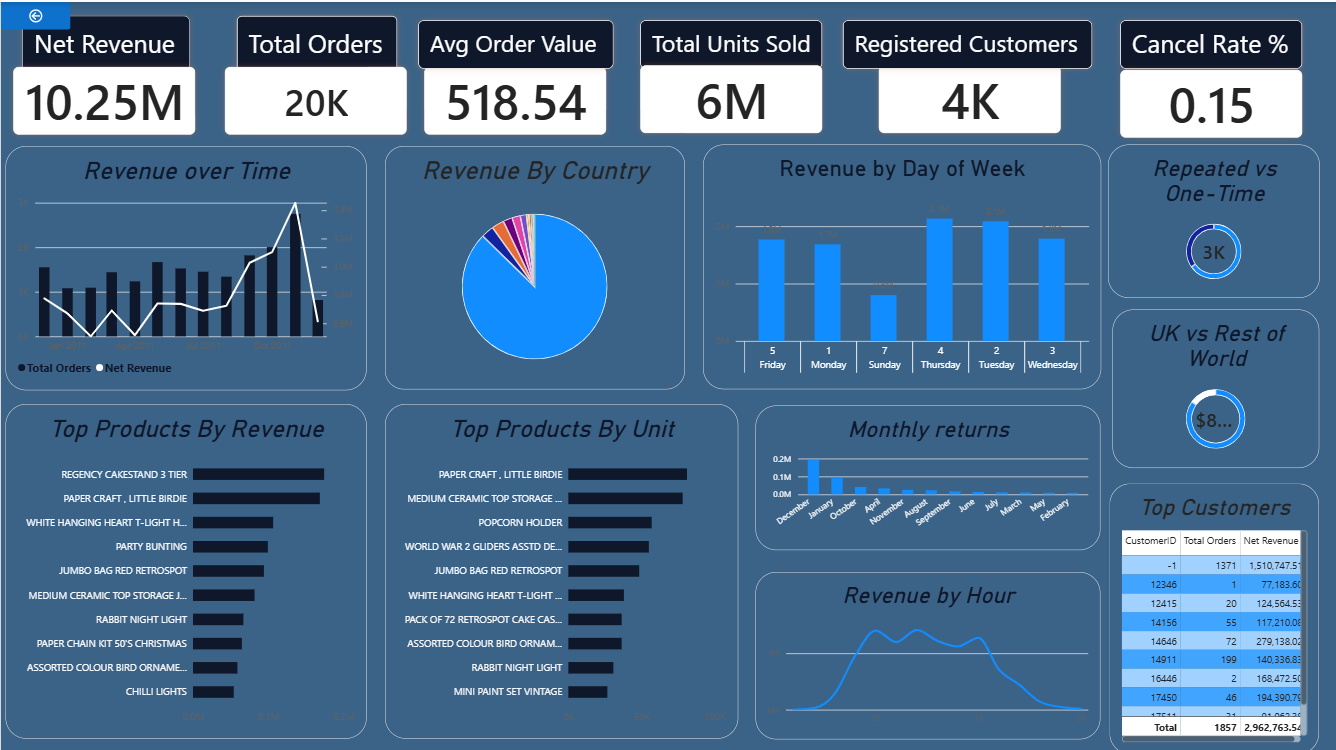

The page's visual inventory and layout, read from the dashboard file:
{"tool":"powerbi","page":{"name":"Page 1","canvas":[1920,1080],"ordinal":0},"visuals":[{"type":"cardVisual","fields":{"Data":["Fact_Sales.Net Revenue"]},"box":[19,9.5,263.3,102],"z":0},{"type":"cardVisual","fields":{"Data":["Fact_Sales.Total Orders"]},"box":[327.4,9.5,253.8,102],"z":1},{"type":"cardVisual","fields":{"Data":["Fact_Sales.Total Units Sold"]},"box":[908.6,14.2,284.7,92.8],"z":3},{"type":"cardVisual","fields":{"Data":["Fact_Sales.Cancel Rate %"]},"box":[1599,14.2,284.7,92.8],"z":5},{"type":"cardVisual","fields":{"Data":["Fact_Sales.Net Revenue"]},"box":[7.2,82.3,284.7,120.8],"z":6},{"type":"cardVisual","fields":{"Data":["Fact_Sales.Total Orders"]},"box":[310.8,83,284.7,121],"z":7},{"type":"cardVisual","fields":{"Data":["Fact_Sales.Avg Order Value"]},"box":[597.8,83,284.7,120.8],"z":8},{"type":"cardVisual","fields":{"Data":["Fact_Sales.Total Units Sold"]},"box":[908.6,80.7,284.7,120.8],"z":9},{"type":"cardVisual","fields":{"Data":["Fact_Sales.Registered Customers"]},"box":[1250.2,80.7,284.7,120.8],"z":10},{"type":"cardVisual","fields":{"Data":["Fact_Sales.Cancel Rate %"]},"box":[1599,85.4,284.7,120.8],"z":11},{"type":"lineClusteredColumnComboChart","title":"Revenue over Time","fields":{"Category":["Dim_Date.YearMonth"],"Y":["Fact_Sales.Total Orders"],"Y2":["Fact_Sales.Net Revenue"]},"box":[7.1,206.4,519.5,351.1],"z":12},{"type":"cardVisual","fields":{"Data":["Fact_Sales.Avg Order Value"]},"box":[588.3,14.2,303.7,92.5],"z":13},{"type":"cardVisual","fields":{"Data":["Fact_Sales.Registered Customers"]},"box":[1200.4,14.2,381.9,92.5],"z":14},{"type":"clusteredBarChart","title":"Top Products By Revenue","fields":{"Category":["Dim_Product.Description"],"Y":["Fact_Sales.Net Revenue"]},"box":[7.1,578.9,519.5,481.6],"z":15},{"type":"clusteredBarChart","title":"Top Products By Unit","fields":{"Category":["Dim_Product.Description"],"Y":["Fact_Sales.Total Units Sold"]},"box":[552.8,578.9,507.7,481.6],"z":16},{"type":"pieChart","title":"Revenue By Country","fields":{"Category":["Dim_Country.Country"],"Y":["Fact_Sales.Net Revenue"]},"box":[552.8,206.4,431.1,350.3],"z":17},{"type":"donutChart","title":"UK vs Rest of World","fields":{"Y":["Fact_Sales.UK Revenue","Fact_Sales.Rest of World Revenue"]},"box":[1598.6,441.2,297.4,228],"z":18},{"type":"tableEx","title":"Top Customers","fields":{"Values":["Dim_Customer.CustomerID","Fact_Sales.Total Orders","Fact_Sales.Net Revenue"]},"box":[1593.7,691.5,301.3,389.1],"z":19},{"type":"donutChart","title":"Repeated vs One-Time","fields":{"Y":["Fact_Sales.Repeat Customers","Fact_Sales.One-Time Customers"]},"box":[1591.2,205.7,304.9,220.6],"z":20},{"type":"clusteredColumnChart","title":"Revenue by Day of Week","fields":{"Category":["Dim_Date.DayOfWeek","Dim_Date.DayOfWeekNum"],"Y":["Fact_Sales.Net Revenue"]},"box":[1008.8,205.7,572.5,351.9],"z":21},{"type":"lineChart","title":"Revenue by Hour","fields":{"Category":["Fact_Sales.Hour"],"Y":["Fact_Sales.Net Revenue"]},"box":[1085.6,820.4,495.7,240.4],"z":22},{"type":"columnChart","title":"Monthly returns","fields":{"Category":["Dim_Date.MonthName"],"Y":["Fact_Sales.Cancelled Value"]},"box":[1085.6,580,495.7,208.2],"z":23},{"type":"actionButton","box":[0,0,100,40],"z":25}]}

Visuals, with their boxes in screenshot pixels (x1, y1, x2, y2), scaled from the page's 1920x1080 canvas onto the 1336x750 screenshot:
cardVisual - Fact_Sales.Net Revenue: 13/7/196/77
cardVisual - Fact_Sales.Total Orders: 228/7/404/77
cardVisual - Fact_Sales.Total Units Sold: 632/10/830/74
cardVisual - Fact_Sales.Cancel Rate %: 1113/10/1311/74
cardVisual - Fact_Sales.Net Revenue: 5/57/203/141
cardVisual - Fact_Sales.Total Orders: 216/58/414/142
cardVisual - Fact_Sales.Avg Order Value: 416/58/614/142
cardVisual - Fact_Sales.Total Units Sold: 632/56/830/140
cardVisual - Fact_Sales.Registered Customers: 870/56/1068/140
cardVisual - Fact_Sales.Cancel Rate %: 1113/59/1311/143
"Revenue over Time" lineClusteredColumnComboChart: 5/143/366/387
cardVisual - Fact_Sales.Avg Order Value: 409/10/621/74
cardVisual - Fact_Sales.Registered Customers: 835/10/1101/74
"Top Products By Revenue" clusteredBarChart: 5/402/366/736
"Top Products By Unit" clusteredBarChart: 385/402/738/736
"Revenue By Country" pieChart: 385/143/685/387
"UK vs Rest of World" donutChart: 1112/306/1319/465
"Top Customers" tableEx: 1109/480/1319/749
"Repeated vs One-Time" donutChart: 1107/143/1319/296
"Revenue by Day of Week" clusteredColumnChart: 702/143/1100/387
"Revenue by Hour" lineChart: 755/570/1100/737
"Monthly returns" columnChart: 755/403/1100/547
actionButton: 0/0/70/28
